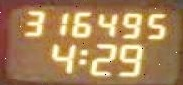1: (57, 11, 67, 35)
2: (86, 42, 115, 75)
3: (22, 9, 43, 36)
4: (48, 43, 75, 73), (95, 12, 116, 36)
5: (145, 11, 165, 38)
6: (68, 11, 90, 36)
9: (117, 43, 142, 76), (118, 11, 140, 37)
X: (75, 47, 88, 65)
